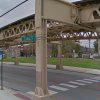Crosswalk: (18, 76, 100, 96)
